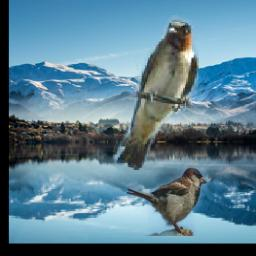Sparrow: (126, 167, 206, 236)
Swallow: (113, 15, 199, 170)
